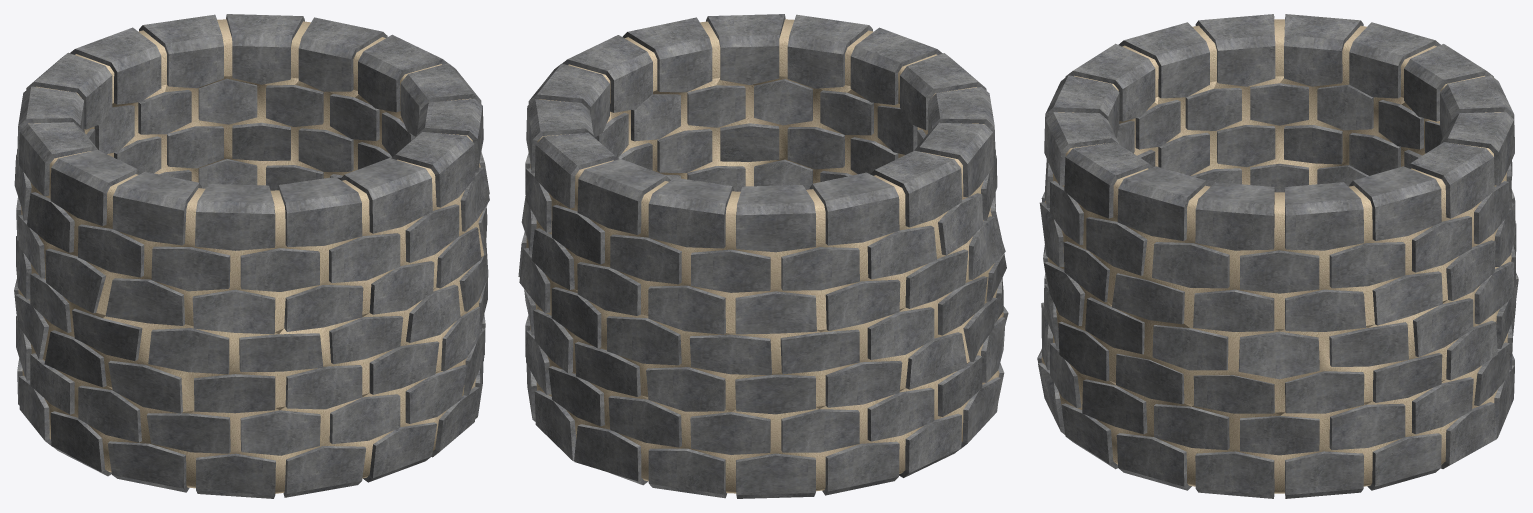
The model's file is tower.gltf.
The picture shows the model from 3 angles, left to right: view 1: azimuth 30°, elevation 25°; view 2: azimuth 150°, elevation 25°; view 3: azimuth 270°, elevation 25°; orthographic projection.
Visible parts, largest first — view 1: Cylinder.001; view 2: Cylinder.001; view 3: Cylinder.001.
Part boxes in pixels (left/top/right/bottom): Cylinder.001: left=14, top=14, right=489, bottom=498; Cylinder.001: left=518, top=14, right=1008, bottom=498; Cylinder.001: left=1037, top=14, right=1518, bottom=498.
Bounding box in the file's own units: 2.73 × 1.84 × 2.71.
Materials: 2 (2 with a texture image).
